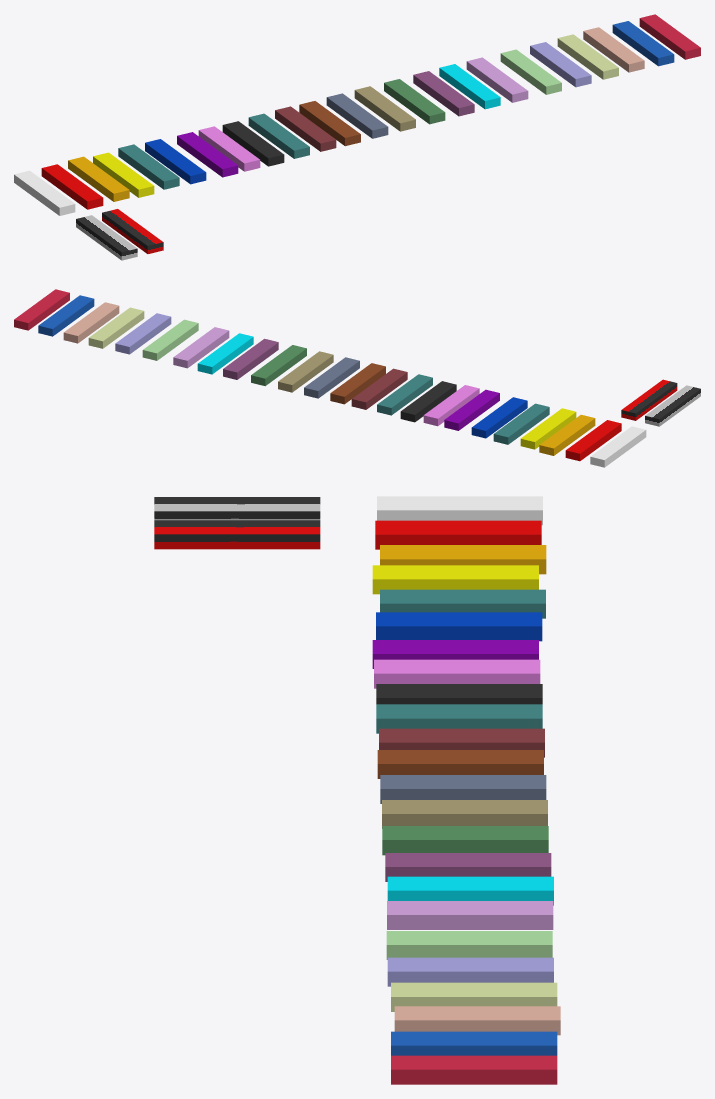
The model's file is colors.glb.
3 renders of one model, top to bottom at view 1: azimuth 30°, elevation 25°; view 2: azimuth 150°, elevation 25°; view 3: azimuth 270°, elevation 25°, orthographic. The views are drawn at different scales.
Visible parts, largest first — view 1: gray grey gry, ethereal eth, rose rse, red, plum plm, purple P ppl, lime lme, green grn, forest frs, blue blu, petrol ptr, spring spr (+14 smaller); view 2: blue blu, lightgray lightgrey lgy white W, rust rst, orange E org, green grn, teal tea, lime lme, lavender lvn, peach pch, splitred, red, rose rse (+14 smaller); view 3: ruby rby, splitred, rose rse, blue blu, forest frs, lime lme, peach pch, lavender lvn, tan, yellow Y ylw, red, spring spr (+14 smaller).
Part boxes in pixels (x1=…): gray grey gry: x1=326, y1=93, x2=388, y2=138; ethereal eth: x1=612, y1=21, x2=674, y2=66; rose rse: x1=466, y1=57, x2=528, y2=102; red: x1=41, y1=164, x2=103, y2=209; plum plm: x1=413, y1=71, x2=474, y2=116; purple P ppl: x1=177, y1=132, x2=238, y2=177; lime lme: x1=500, y1=49, x2=561, y2=94; green grn: x1=118, y1=144, x2=179, y2=189; forest frs: x1=384, y1=79, x2=445, y2=124; blue blu: x1=145, y1=139, x2=206, y2=184; petrol ptr: x1=248, y1=113, x2=309, y2=158; spring spr: x1=557, y1=34, x2=618, y2=79; blue blu: x1=471, y1=397, x2=527, y2=438; lightgray lightgrey lgy white W: x1=590, y1=426, x2=646, y2=467; rust rst: x1=351, y1=368, x2=407, y2=409; orange E org: x1=539, y1=414, x2=595, y2=455; green grn: x1=493, y1=403, x2=549, y2=444; teal tea: x1=197, y1=333, x2=253, y2=374; lime lme: x1=142, y1=319, x2=198, y2=360; lavender lvn: x1=115, y1=313, x2=171, y2=354; peach pch: x1=63, y1=302, x2=119, y2=343; splitred: x1=621, y1=379, x2=677, y2=420; red: x1=565, y1=420, x2=621, y2=461; rose rse: x1=173, y1=327, x2=229, y2=368; ruby rby: x1=391, y1=1055, x2=557, y2=1084; splitred: x1=154, y1=520, x2=320, y2=549; rose rse: x1=387, y1=901, x2=553, y2=929; blue blu: x1=376, y1=612, x2=542, y2=641; forest frs: x1=382, y1=826, x2=548, y2=855; lime lme: x1=386, y1=931, x2=552, y2=959; peach pch: x1=394, y1=1006, x2=560, y2=1035; lavender lvn: x1=387, y1=957, x2=553, y2=986; tan: x1=382, y1=800, x2=547, y2=828; yellow Y ylw: x1=372, y1=565, x2=538, y2=594; red: x1=375, y1=520, x2=541, y2=549; spring spr: x1=391, y1=982, x2=557, y2=1011.
Bounding box in the file's own units: 0.408 × 0.0058 × 0.1223.
25 materials, 2 textured.
